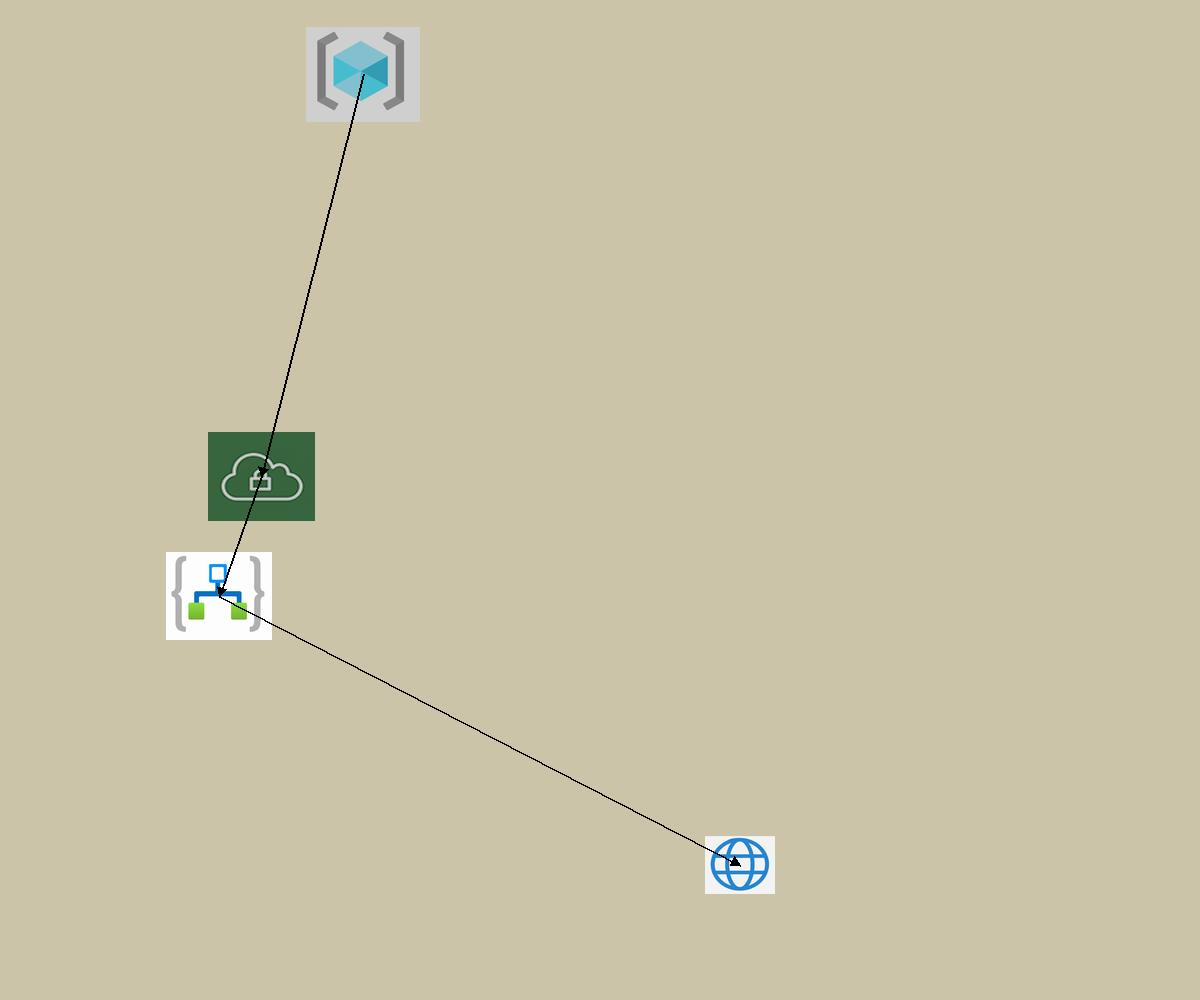AWS-Private_vpc: (208, 432, 315, 521)
Azure_http: (705, 836, 775, 894)
Azure_integration-204-Logic-Apps: (166, 552, 272, 640)
Azure_resource_group: (306, 27, 420, 122)
